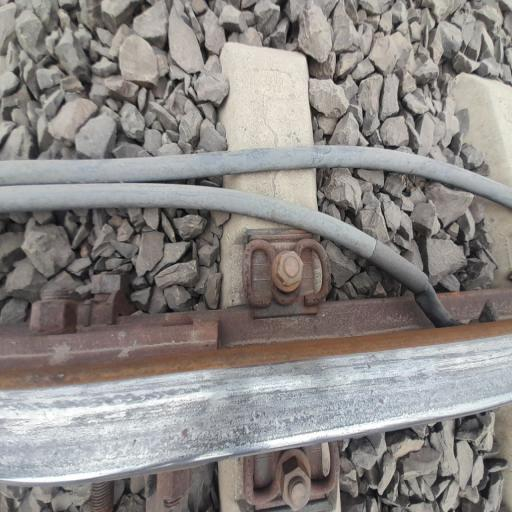bolt: (277, 461, 320, 512), (272, 247, 308, 293)
clip: (239, 227, 339, 317), (238, 440, 355, 508)
rail: (89, 317, 472, 485)
